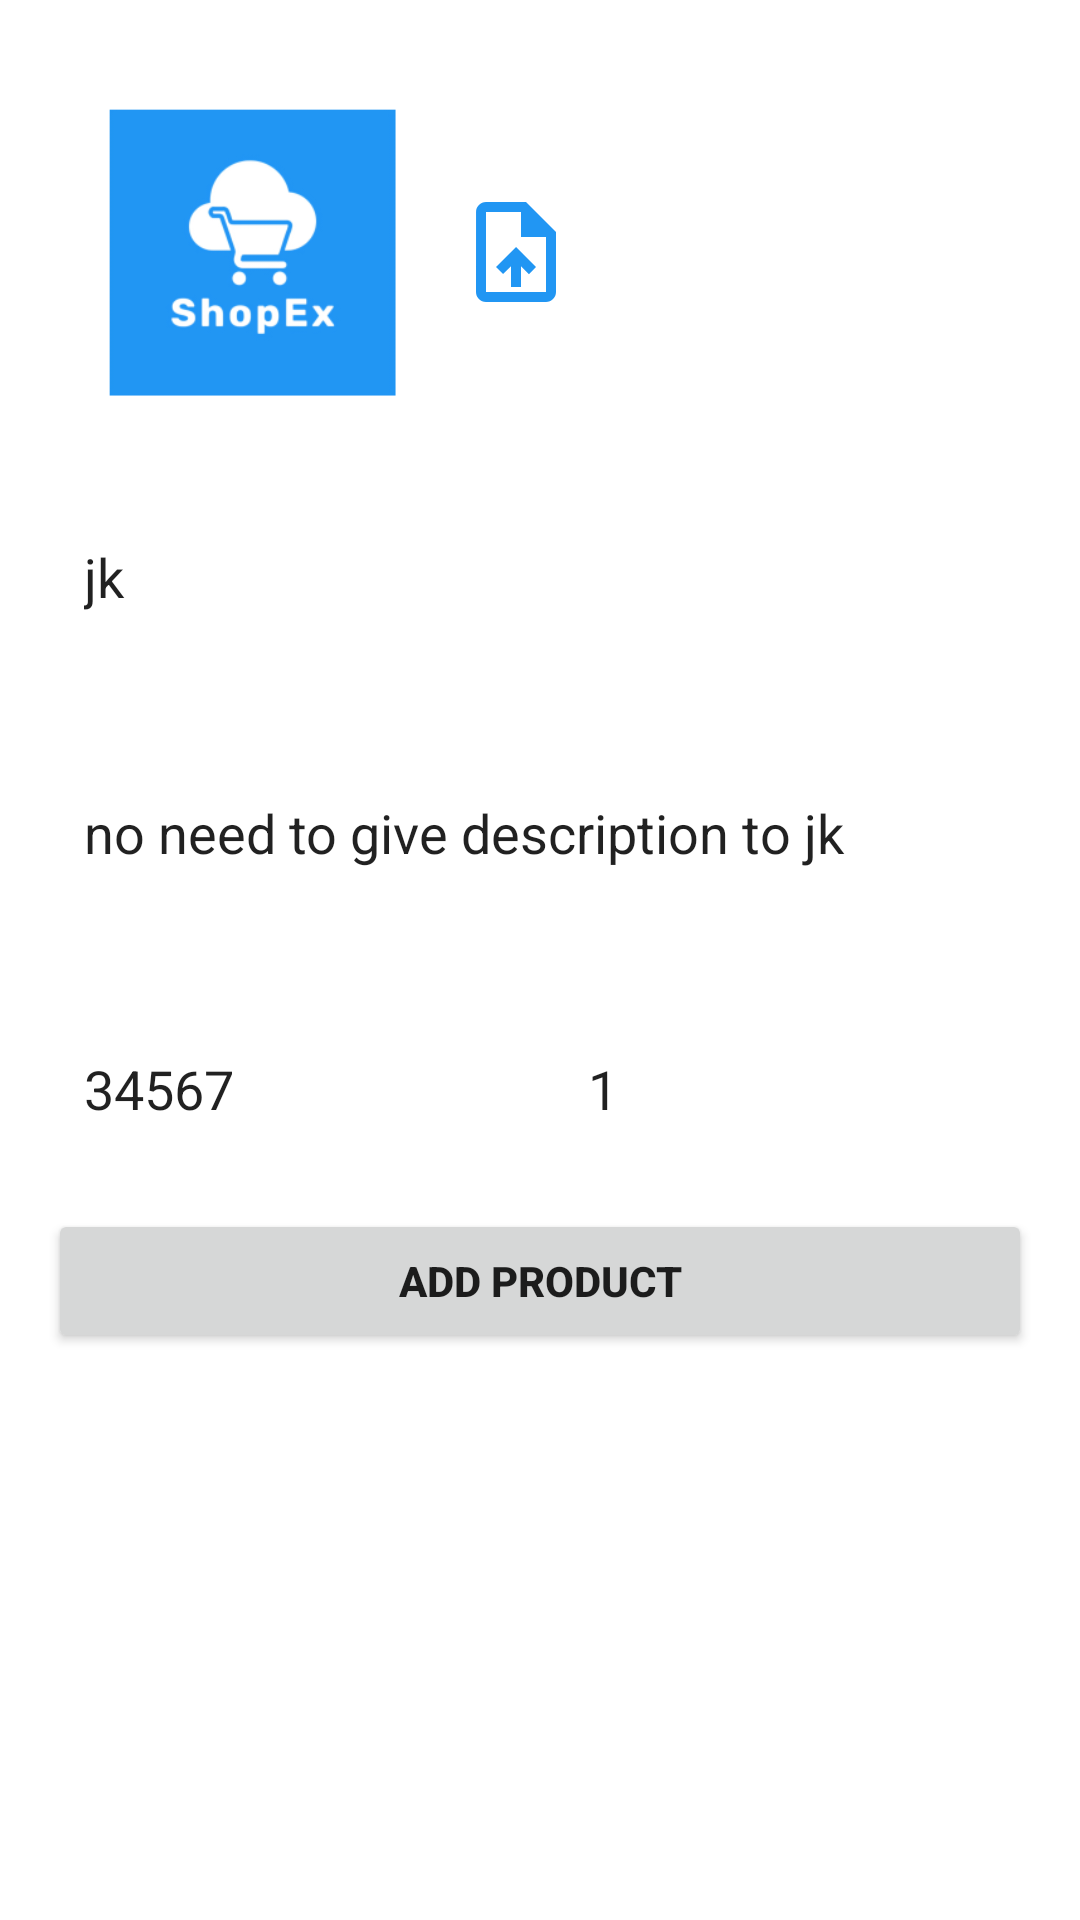

Screen size 1080*1920. Icon name, then its center in pixels as point (x, y):
upload file: point (516, 252)
